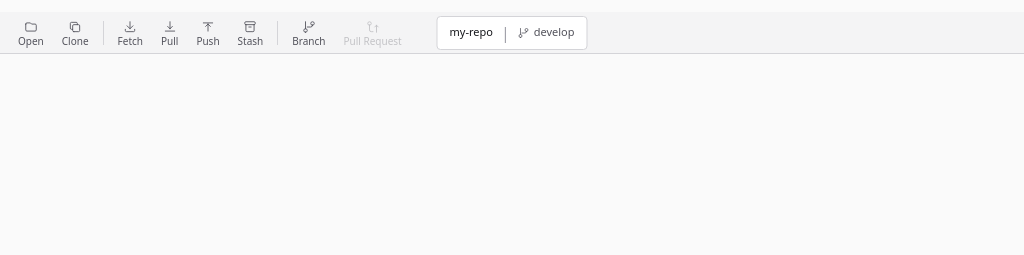
it: ActionToolbar › Push flyover › defaults push branch to activeBranch
Click the button with test id "toolbar-btn-Push" at (208, 32), box [188, 16, 228, 50]
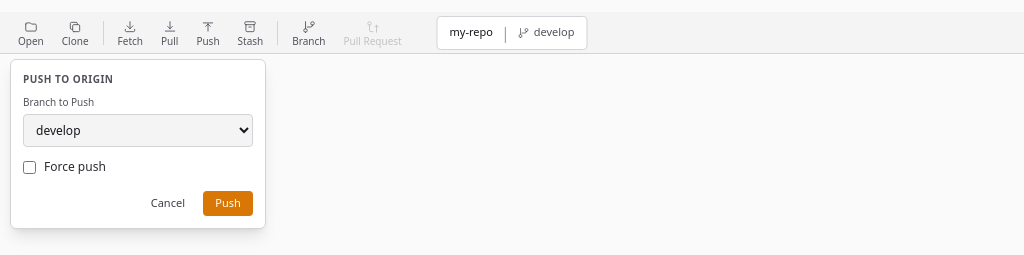
Expected: the dropdown showing "develop" is shown, [23, 114, 253, 147]
